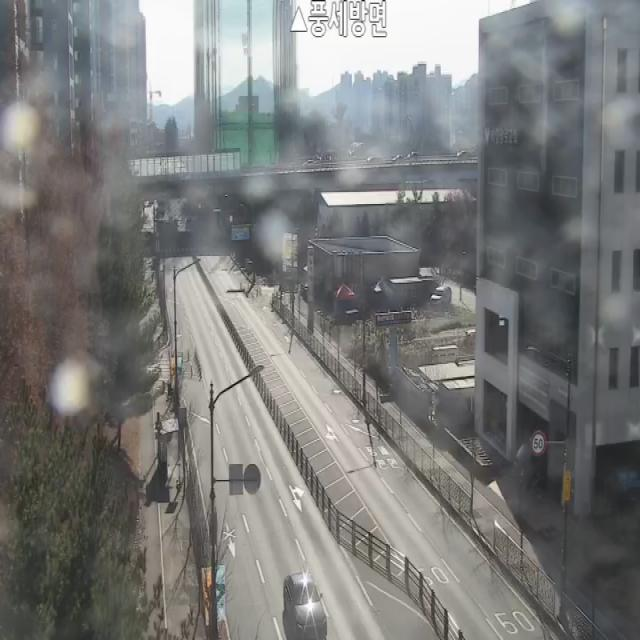Car: (284, 572, 327, 640), (430, 284, 452, 304)
